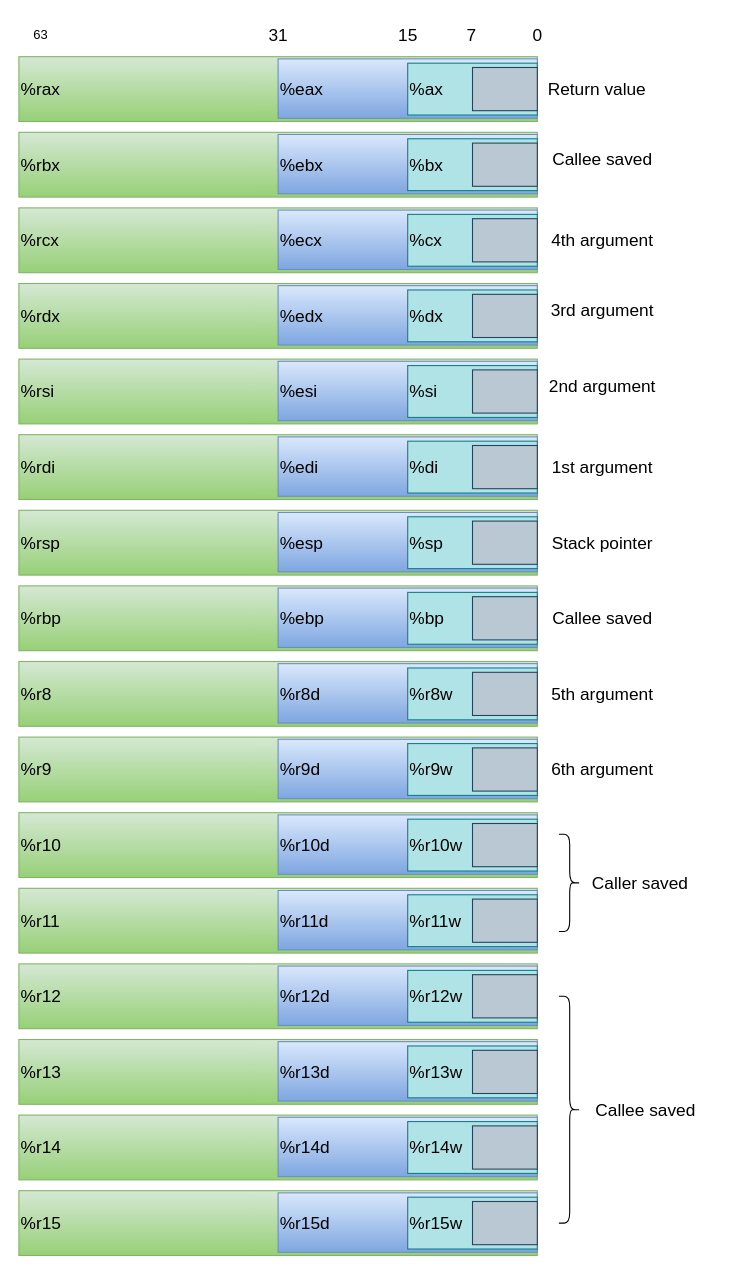
Some shapes in this 729 by 1274 pixel diagram are drawn without their labels. Here are the shapes that lost their labels. From the top down, the centre of each, then its label:
At (504,88): "%al".
At (504,164): "%bl".
At (504,240): "%cl".
At (504,315): "%dl".
At (504,391): "%sil".
At (504,466): "%dil".
At (504,542): "%spl".
At (504,618): "%bpl".
At (504,693): "%r8b".
At (504,769): "%r9b".
At (504,844): "%r10b".
At (504,920): "%r11b".
At (504,996): "%r12b".
At (504,1071): "%r13b".
At (504,1147): "%r14b".
At (504,1222): "%r15b".
